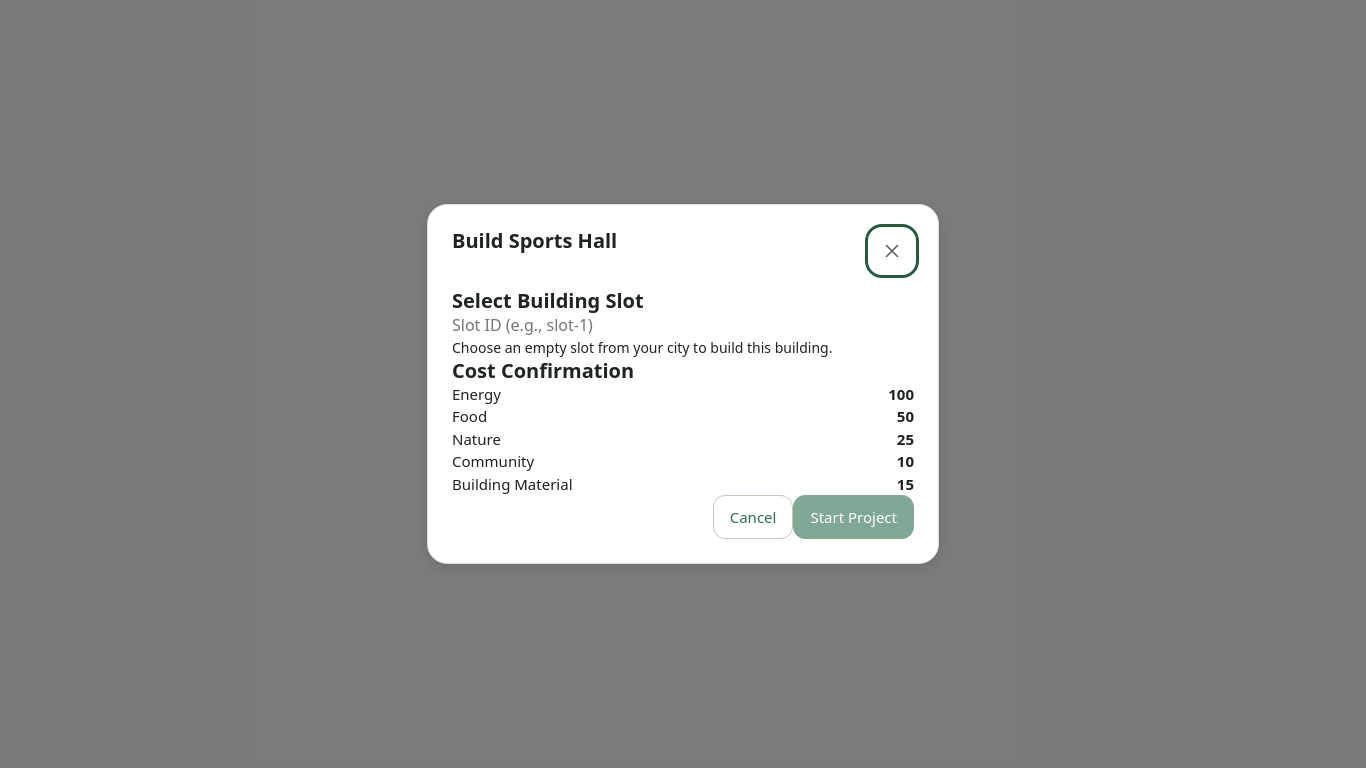
Scenario: BuildingProjectDialog › enables start button with valid slot and sufficient resources
Type "slot-1" into the field with placeholder "Slot ID (e.g., slot-1)" at coordinates (683, 324), box x1=452 y1=312 x2=914 y2=336
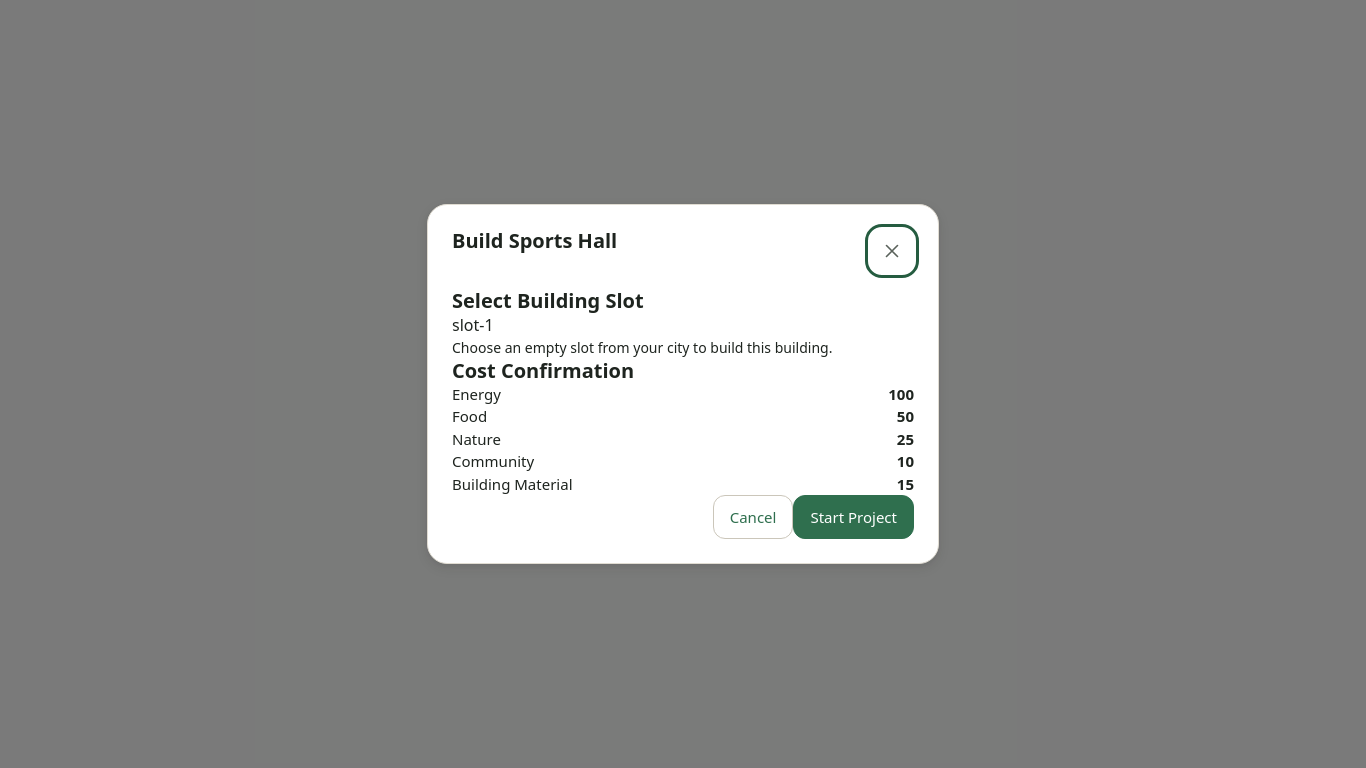
Check: the button "Start Project" is enabled, box x1=793 y1=495 x2=914 y2=539
